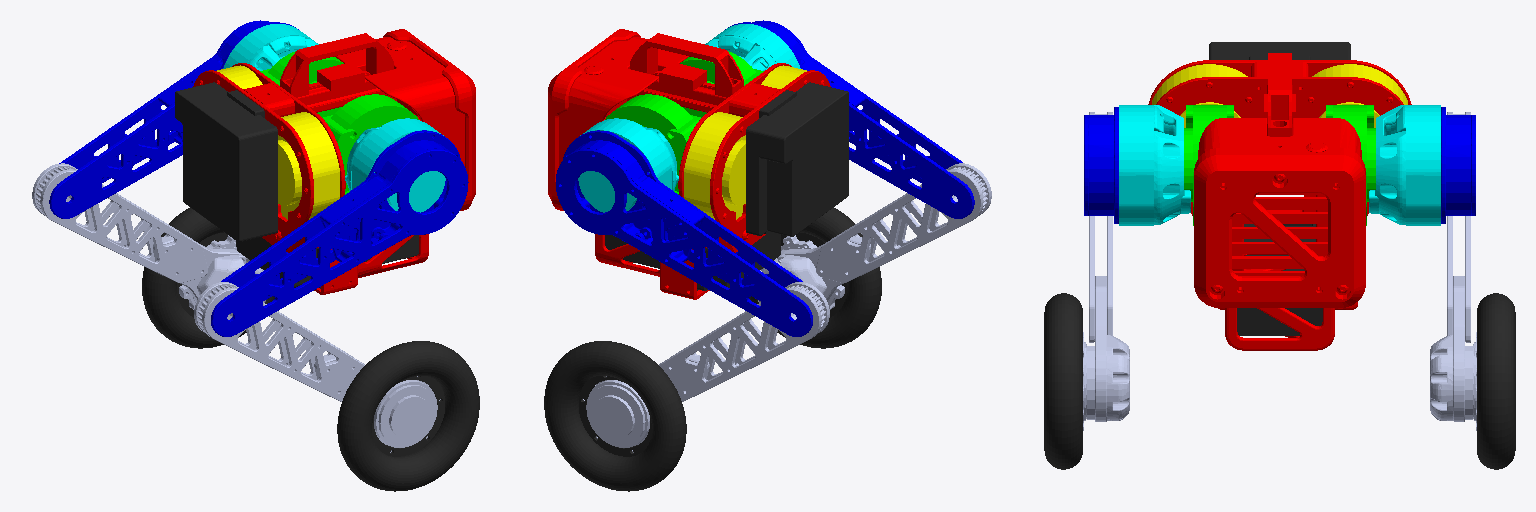
The robot description file, URDF, robot "bi_urdf":
<?xml version="1.0" encoding="utf-8"?>
<!-- This URDF was automatically created by SolidWorks to URDF Exporter! Originally created by [author] ([email redacted]) 
     Commit Version: 1.6.0-4-g7f85cfe  Build Version: 1.6.7995.38578
     For more information, please see http://wiki.ros.org/sw_urdf_exporter -->
<robot
  name="bi_urdf">
  <link
    name="base_link">
    <inertial>
      <origin
        xyz="0.01096 0.00049 -0.08447"
        rpy="0 0 0" />
      <mass
        value="1.7" />
      <inertia
        ixx="0.00769689667"
        ixy="-0.00001210807"
        ixz="0.00062204297"
        iyy="0.01187821304"
        iyz="-0.00005678673"
        izz="0.01068062203" />
    </inertial>
    <visual>
      <origin
        xyz="0 0 0"
        rpy="0 0 0" />
      <geometry>
        <mesh
          filename="package://bi_urdf/meshes/base_link.STL" />
      </geometry>
      <material
        name="">
        <color
          rgba="1 0 0 1" />
      </material>
    </visual>
    <collision>
      <origin
        xyz="0 0 0"
        rpy="0 0 0" />
      <geometry>
        <mesh
          filename="package://bi_urdf/meshes/base_link.STL" />
      </geometry>
    </collision>
  </link>
  <link
    name="orin_Link">
    <inertial>
      <origin
        xyz="-0.11589 -0.00301 -0.06043"
        rpy="0 0 0" />
      <mass
        value="0.3" />
      <inertia
        ixx="0.00056995236"
        ixy="0.00000702987"
        ixz="-0.00000151681"
        iyy="0.00031954942"
        iyz="0.00001283736"
        izz="0.00033350621" />
    </inertial>
    <visual>
      <origin
        xyz="0 0 0"
        rpy="0 0 0" />
      <geometry>
        <mesh
          filename="package://bi_urdf/meshes/orin_Link.STL" />
      </geometry>
      <material
        name="">
        <color
          rgba="0.2 0.2 0.2 1" />
      </material>
    </visual>
    <collision>
      <origin
        xyz="0 0 0"
        rpy="0 0 0" />
      <geometry>
        <mesh
          filename="package://bi_urdf/meshes/orin_Link.STL" />
      </geometry>
    </collision>
  </link>
  <joint
    name="orin"
    type="fixed">
    <origin
      xyz="-0.0918148109842786 -0.0249000000000198 -0.117725"
      rpy="0 0 0" />
    <parent
      link="base_link" />
    <child
      link="orin_Link" />
    <axis
      xyz="1 0 0" />
  </joint>
  <link
    name="bat_Link">
    <inertial>
      <origin
        xyz="-0.01301 0.00224 -0.15741"
        rpy="0 0 0" />
      <mass
        value="0.672" />
      <inertia
        ixx="0.00050649732"
        ixy="-0.00005451290"
        ixz="-0.00000043467"
        iyy="0.00114303642"
        iyz="0.00000004304"
        izz="0.00144413526" />
    </inertial>
    <visual>
      <origin
        xyz="0 0 0"
        rpy="0 0 0" />
      <geometry>
        <mesh
          filename="package://bi_urdf/meshes/bat_Link.STL" />
      </geometry>
      <material
        name="">
        <color
          rgba="0.2 0.2 0.2 1" />
      </material>
    </visual>
    <collision>
      <origin
        xyz="0 0 0"
        rpy="0 0 0" />
      <geometry>
        <mesh
          filename="package://bi_urdf/meshes/bat_Link.STL" />
      </geometry>
    </collision>
  </link>
  <joint
    name="bat"
    type="fixed">
    <origin
      xyz="-0.0416148109842793 0 -0.179925"
      rpy="0 0 0" />
    <parent
      link="base_link" />
    <child
      link="bat_Link" />
    <axis
      xyz="0 1 0" />
  </joint>
  <link
    name="r_Link">
    <inertial>
      <origin
        xyz="-0.07425 -0.05625 -0.05478"
        rpy="0 0 0" />
      <mass
        value="0.536" />
      <inertia
        ixx="0.00055434936"
        ixy="0.00000028"
        ixz="0.00000016"
        iyy="0.00033814912"
        iyz="-0.00000650"
        izz="0.00032811004" />
    </inertial>
    <visual>
      <origin
        xyz="0 0 0"
        rpy="0 0 0" />
      <geometry>
        <mesh
          filename="package://bi_urdf/meshes/r_Link.STL" />
      </geometry>
      <material
        name="">
        <color
          rgba="1 1 0 1" />
      </material>
    </visual>
    <collision>
      <origin
        xyz="0 0 0"
        rpy="0 0 0" />
      <geometry>
        <mesh
          filename="package://bi_urdf/meshes/r_Link.STL" />
      </geometry>
    </collision>
  </link>
  <joint
    name="R_hip_fix"
    type="fixed">
    <origin
      xyz="-0.0535148109842786 -0.0562500000000304 -0.0547752717334899"
      rpy="0 0 0" />
    <parent
      link="base_link" />
    <child
      link="r_Link" />
    <axis
      xyz="1 0 0" />
  </joint>
  <link
    name="rr_Link">
    <inertial>
      <origin
        xyz="-0.00438 -0.05542 -0.05478"
        rpy="0 0 0" />
      <mass
        value="0.573" />
      <inertia
        ixx="0.00035681946"
        ixy="-0.00000082325"
        ixz="-0.00000001754"
        iyy="0.00066069514"
        iyz="-0.00000000063"
        izz="0.00042652685" />
    </inertial>
    <visual>
      <origin
        xyz="0 0 0"
        rpy="0 0 0" />
      <geometry>
        <mesh
          filename="package://bi_urdf/meshes/rr_Link.STL" />
      </geometry>
      <material
        name="">
        <color
          rgba="0 1 0 1" />
      </material>
    </visual>
    <collision>
      <origin
        xyz="0 0 0"
        rpy="0 0 0" />
      <geometry>
        <mesh
          filename="package://bi_urdf/meshes/rr_Link.STL" />
      </geometry>
    </collision>
  </link>
  <joint
    name="R_base2hip"
    type="fixed">
    <origin
      xyz="0 0 0"
      rpy="0 0 0" />
    <parent
      link="r_Link" />
    <child
      link="rr_Link" />
    <axis
      xyz="1 0 0" />
  </joint>
  <link
    name="rrr_Link">
    <inertial>
      <origin
        xyz="-0.00024 -0.10799 -0.05471"
        rpy="0 0 0" />
      <mass
        value="0.614" />
      <inertia
        ixx="0.00045867418"
        ixy="0.00000039476"
        ixz="-0.00000248272"
        iyy="0.00065691261"
        iyz="-0.00000283378"
        izz="0.00048406318" />
    </inertial>
    <visual>
      <origin
        xyz="0 0 0"
        rpy="0 0 0" />
      <geometry>
        <mesh
          filename="package://bi_urdf/meshes/rrr_Link.STL" />
      </geometry>
      <material
        name="">
        <color
          rgba="0 1 1 1" />
      </material>
    </visual>
    <collision>
      <origin
        xyz="0 0 0"
        rpy="0 0 0" />
      <geometry>
        <mesh
          filename="package://bi_urdf/meshes/rrr_Link.STL" />
      </geometry>
    </collision>
  </link>
  <joint
    name="R_thigh_fix"
    type="fixed">
    <origin
      xyz="0.0532497748906444 -0.0144424855132765 0"
      rpy="0 0 0" />
    <parent
      link="rr_Link" />
    <child
      link="rrr_Link" />
    <axis
      xyz="0 1 0" />
  </joint>
  <link
    name="ru_Link">
    <inertial>
      <origin
        xyz="-0.00031 -0.14157 -0.12137"
        rpy="0 0 0" />
      <mass
        value="0.509" />
      <inertia
        ixx="0.00291339944"
        ixy="-0.00000037638"
        ixz="0.00000187505"
        iyy="0.00309079543"
        iyz="0.00000525271"
        izz="0.00029056644" />
    </inertial>
    <visual>
      <origin
        xyz="0 0 0"
        rpy="0 0 0" />
      <geometry>
        <mesh
          filename="package://bi_urdf/meshes/ru_Link.STL" />
      </geometry>
      <material
        name="">
        <color
          rgba="0 0 1 1" />
      </material>
    </visual>
    <collision>
      <origin
        xyz="0 0 0"
        rpy="0 0 0" />
      <geometry>
        <mesh
          filename="package://bi_urdf/meshes/ru_Link.STL" />
      </geometry>
    </collision>
  </link>
  <joint
    name="R_hip2thigh"
    type="fixed">
    <origin
      xyz="0 -0.0577075781855466 0"
      rpy="0 1.2164473167519347 0" />
    <parent
      link="rrr_Link" />
    <child
      link="ru_Link" />
    <axis
      xyz="0 1 0" />
    <!-- <limit
      lower="0.0"
      upper="1.57"
      effort="23.7"
      velocity="30.0" /> -->
  </joint>
  <link
    name="rd_Link">
    <inertial>
      <origin
        xyz="-0.00024 -0.14959 -0.42253"
        rpy="0 0 0" />
      <mass
        value="0.555" />
      <inertia
        ixx="0.00382014103"
        ixy="0.00000009069"
        ixz="0.00000187888"
        iyy="0.00386192674"
        iyz="0.00002316788"
        izz="0.00022551754" />
    </inertial>
    <visual>
      <origin
        xyz="0 0 0"
        rpy="0 0 0" />
      <geometry>
        <mesh
          filename="package://bi_urdf/meshes/rd_Link.STL" />
      </geometry>
      <material
        name="">
        <color
          rgba="0.792156862745098 0.819607843137255 0.933333333333333 1" />
      </material>
    </visual>
    <collision>
      <origin
        xyz="0 0 0"
        rpy="0 0 0" />
      <geometry>
        <mesh
          filename="package://bi_urdf/meshes/rd_Link.STL" />
      </geometry>
    </collision>
  </link>
  <joint
    name="R_thigh2calf"
    type="fixed">
    <origin
      xyz="0 0 -0.214999999999999"
      rpy="0 -2.139803613507067 0" />
    <parent
      link="ru_Link" />
    <child
      link="rd_Link" />
    <axis
      xyz="0 1 0" />
    <!-- <limit
      lower="-2.61"
      upper="0.0"
      effort="23.7"
      velocity="30.0" /> -->
  </joint>
  <link
    name="rw_Link">
    <inertial>
      <origin
        xyz="-0.00027 -0.17228 -0.48478"
        rpy="0 0 0" />
      <mass
        value="0.280" />
      <inertia
        ixx="0.0045837921"
        ixy="0.0000000000"
        ixz="-0.0000000035"
        iyy="0.00088385874"
        iyz="0.0000000000"
        izz="0.0045837570" />
    </inertial>
    <visual>
      <origin
        xyz="0 0 0"
        rpy="0 0 0" />
      <geometry>
        <mesh
          filename="package://bi_urdf/meshes/rw_Link.STL" />
      </geometry>
      <material
        name="">
        <color
          rgba="0.2 0.2 0.2 1" />
      </material>
    </visual>
    <collision>
      <origin
        xyz="0 0 0"
        rpy="0 0 0" />
      <geometry>
        <mesh
          filename="package://bi_urdf/meshes/rw_Link.STL" />
      </geometry>
    </collision>
  </link>
  <joint
    name="R_calf2wheel"
    type="continuous">
    <origin
      xyz="0 -0.0286806801421281 -0.215"
      rpy="0 0 0" />
    <parent
      link="rd_Link" />
    <child
      link="rw_Link" />
    <axis
      xyz="0 1 0" />
  </joint>
  <link
    name="l_Link">
    <inertial>
      <origin
        xyz="-0.07425 0.05625 -0.05478"
        rpy="0 0 0" />
      <mass
        value="0.536" />
      <inertia
        ixx="0.00385839628"
        ixy="-0.00223851548"
        ixz="0.00217989254"
        iyy="0.00490116608"
        iyz="-0.00165142968"
        izz="0.00497879081" />
    </inertial>
    <visual>
      <origin
        xyz="0 0 0"
        rpy="0 0 0" />
      <geometry>
        <mesh
          filename="package://bi_urdf/meshes/l_Link.STL" />
      </geometry>
      <material
        name="">
        <color
          rgba="1 1 0 1" />
      </material>
    </visual>
    <collision>
      <origin
        xyz="0 0 0"
        rpy="0 0 0" />
      <geometry>
        <mesh
          filename="package://bi_urdf/meshes/l_Link.STL" />
      </geometry>
    </collision>
  </link>
  <joint
    name="L_hip_fix"
    type="fixed">
    <origin
      xyz="-0.0535148109842794 0.0562499999999701 -0.0547752717334901"
      rpy="0 0 0" />
    <parent
      link="base_link" />
    <child
      link="l_Link" />
    <axis
      xyz="1 0 0" />
  </joint>
  <link
    name="ll_Link">
    <inertial>
      <origin
        xyz="-0.00438 0.05542 -0.05478"
        rpy="0 0 0" />
      <mass
        value="0.573" />
      <inertia
        ixx="0.00383572240"
        ixy="-0.00013818708"
        ixz="0.00013738311"
        iyy="0.00239093628"
        iyz="-0.00173932479"
        izz="0.00219705608" />
    </inertial>
    <visual>
      <origin
        xyz="0 0 0"
        rpy="0 0 0" />
      <geometry>
        <mesh
          filename="package://bi_urdf/meshes/ll_Link.STL" />
      </geometry>
      <material
        name="">
        <color
          rgba="0 1 0 1" />
      </material>
    </visual>
    <collision>
      <origin
        xyz="0 0 0"
        rpy="0 0 0" />
      <geometry>
        <mesh
          filename="package://bi_urdf/meshes/ll_Link.STL" />
      </geometry>
    </collision>
  </link>
  <joint
    name="L_base2hip"
    type="fixed">
    <origin
      xyz="0 0 0"
      rpy="0 0 0" />
    <parent
      link="l_Link" />
    <child
      link="ll_Link" />
    <axis
      xyz="1 0 0" />
  </joint>
  <link
    name="lll_Link">
    <inertial>
      <origin
        xyz="-0.00023 0.10799 -0.05471"
        rpy="0 0 0" />
      <mass
        value="0.614" />
      <inertia
        ixx="0.00945717399"
        ixy="-0.00001578284"
        ixz="0.00524000"
        iyy="0.00249493047"
        iyz="-0.00362501369"
        izz="0.00764450217" />
    </inertial>
    <visual>
      <origin
        xyz="0 0 0"
        rpy="0 0 0" />
      <geometry>
        <mesh
          filename="package://bi_urdf/meshes/lll_Link.STL" />
      </geometry>
      <material
        name="">
        <color
          rgba="0 1 1 1" />
      </material>
    </visual>
    <collision>
      <origin
        xyz="0 0 0"
        rpy="0 0 0" />
      <geometry>
        <mesh
          filename="package://bi_urdf/meshes/lll_Link.STL" />
      </geometry>
    </collision>
  </link>
  <joint
    name="L_thigh_fix"
    type="fixed">
    <origin
      xyz="0.0532497748906447 0.0144424855132758 0"
      rpy="0 0 0" />
    <parent
      link="ll_Link" />
    <child
      link="lll_Link" />
    <axis
      xyz="0 1 0" />
  </joint>
  <link
    name="lu_Link">
    <inertial>
      <origin
        xyz="-0.00031 0.14157 -0.12137"
        rpy="0 0 0" />
      <mass
        value="0.509" />
      <inertia
        ixx="0.02061220484"
        ixy="-0.00002207751"
        ixz="0.02110824"
        iyy="0.01058873621"
        iyz="-0.00875083739"
        izz="0.01049154602" />
    </inertial>
    <visual>
      <origin
        xyz="0 0 0"
        rpy="0 0 0" />
      <geometry>
        <mesh
          filename="package://bi_urdf/meshes/lu_Link.STL" />
      </geometry>
      <material
        name="">
        <color
          rgba="0 0 1 1" />
      </material>
    </visual>
    <collision>
      <origin
        xyz="0 0 0"
        rpy="0 0 0" />
      <geometry>
        <mesh
          filename="package://bi_urdf/meshes/lu_Link.STL" />
      </geometry>
    </collision>
  </link>
  <joint
    name="L_hip2thigh"
    type="fixed">
    <origin
      xyz="0 0.0577075781855487 0"
      rpy="0 1.2164473167519347 0" />
    <parent
      link="lll_Link" />
    <child
      link="lu_Link" />
    <axis
      xyz="0 1 0" />
    <!-- <limit
      lower="0.0"
      upper="1.57"
      effort="23.7"
      velocity="30.0" /> -->
  </joint>
  <link
    name="ld_Link">
    <inertial>
      <origin
        xyz="-0.00024 0.14959 -0.42253"
        rpy="0 0 0" />
      <mass
        value="0.555" />
      <inertia
        ixx="0.11532533580"
        ixy="-0.02018862"
        ixz="0.05861271"
        iyy="0.10294753695"
        iyz="-0.03531167285"
        izz="0.01264518379" />
    </inertial>
    <visual>
      <origin
        xyz="0 0 0"
        rpy="0 0 0" />
      <geometry>
        <mesh
          filename="package://bi_urdf/meshes/ld_Link.STL" />
      </geometry>
      <material
        name="">
        <color
          rgba="0.792156862745098 0.819607843137255 0.933333333333333 1" />
      </material>
    </visual>
    <collision>
      <origin
        xyz="0 0 0"
        rpy="0 0 0" />
      <geometry>
        <mesh
          filename="package://bi_urdf/meshes/ld_Link.STL" />
      </geometry>
    </collision>
  </link>
  <joint
    name="L_thigh2calf"
    type="fixed">
    <origin
      xyz="0 0 -0.215"
      rpy="0 -2.139803613507067 0" />
    <parent
      link="lu_Link" />
    <child
      link="ld_Link" />
    <axis
      xyz="0 1 0" />
    <!-- <limit
      lower="-2.61"
      upper="0.0"
      effort="23.7"
      velocity="30.0" /> -->
  </joint>
  <link
    name="lw_Link">
    <inertial>
      <origin
        xyz="-0.00027 0.17228 -0.48478"
        rpy="0 0 0" />
      <mass
        value="0.280" />
      <inertia
        ixx="74.57085723"
        ixy="-0.01278479"
        ixz="0.03597588"
        iyy="66.68599063"
        iyz="-0.02338459699"
        izz="8.76875253" />
    </inertial>
    <visual>
      <origin
        xyz="0 0 0"
        rpy="0 0 0" />
      <geometry>
        <mesh
          filename="package://bi_urdf/meshes/lw_Link.STL" />
      </geometry>
      <material
        name="">
        <color
          rgba="0.2 0.2 0.2 1" />
      </material>
    </visual>
    <collision>
      <origin
        xyz="0 0 0"
        rpy="0 0 0" />
      <geometry>
        <mesh
          filename="package://bi_urdf/meshes/lw_Link.STL" />
      </geometry>
    </collision>
  </link>
  <joint
    name="L_calf2wheel"
    type="continuous">
    <origin
      xyz="0 0.0286806801421289 -0.215"
      rpy="0 0 0" />
    <parent
      link="ld_Link" />
    <child
      link="lw_Link" />
    <axis
      xyz="0 1 0" />
  </joint>
</robot>

--- Facts derived from the render (not from the file) ---
Views: 3 orthographic renders of the robot side by side, from view 1: azimuth 30°, elevation 25°; view 2: azimuth 150°, elevation 25°; view 3: azimuth 270°, elevation 25°.
Robot: bi_urdf — 15 links, 14 joints (2 continuous, 12 fixed); root link base_link; default pose: every joint at zero.
Links seen in each view (by area): view 1: base_link, ru_Link, rw_Link, orin_Link, rd_Link, lu_Link, ld_Link, lw_Link, r_Link, rrr_Link, rr_Link, lll_Link (+3 smaller); view 2: base_link, lu_Link, orin_Link, lw_Link, ld_Link, rd_Link, ru_Link, rw_Link, l_Link, lll_Link, ll_Link, rrr_Link (+3 smaller); view 3: base_link, rrr_Link, lll_Link, rw_Link, lw_Link, rd_Link, ld_Link, ru_Link, lu_Link, orin_Link, bat_Link, ll_Link (+3 smaller).
Link boxes in pixels (x1,y1,x2,y2): base_link: (193,29,475,294); ru_Link: (211,130,468,336); rw_Link: (337,341,479,491); orin_Link: (175,82,277,241); rd_Link: (194,282,440,452); lu_Link: (49,20,298,218); ld_Link: (32,163,265,309); lw_Link: (142,207,274,348); r_Link: (278,112,339,219); rrr_Link: (345,118,445,212); rr_Link: (323,94,418,194); lll_Link: (223,24,318,70); base_link: (548,29,830,299); lu_Link: (556,130,812,336); orin_Link: (746,82,848,236); lw_Link: (544,341,686,491); ld_Link: (583,282,829,452); rd_Link: (758,163,991,309); ru_Link: (725,20,974,218); rw_Link: (749,207,881,348); l_Link: (684,112,745,219); lll_Link: (578,118,678,212); ll_Link: (605,94,700,194); rrr_Link: (705,24,800,70); base_link: (1148,53,1411,350); rrr_Link: (1119,105,1190,225); lll_Link: (1369,105,1440,225); rw_Link: (1044,293,1082,469); lw_Link: (1477,293,1515,469); rd_Link: (1083,112,1129,430); ld_Link: (1430,112,1476,430); ru_Link: (1084,107,1118,223); lu_Link: (1441,107,1475,223); orin_Link: (1209,42,1350,59); bat_Link: (1237,224,1322,335); ll_Link: (1326,105,1375,225).
Bounding box of the posed robot: 0.3311 × 0.3756 × 0.3555 m (x, y, z).
15 mesh visuals loaded from 15 distinct referenced files (15 binary STL).
